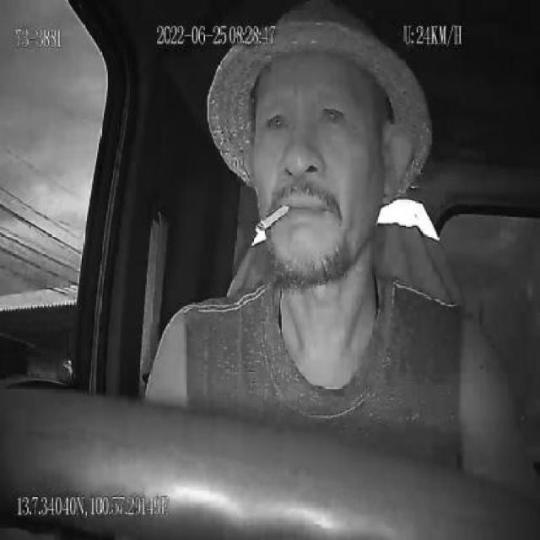smoking: (254, 200, 289, 237)
